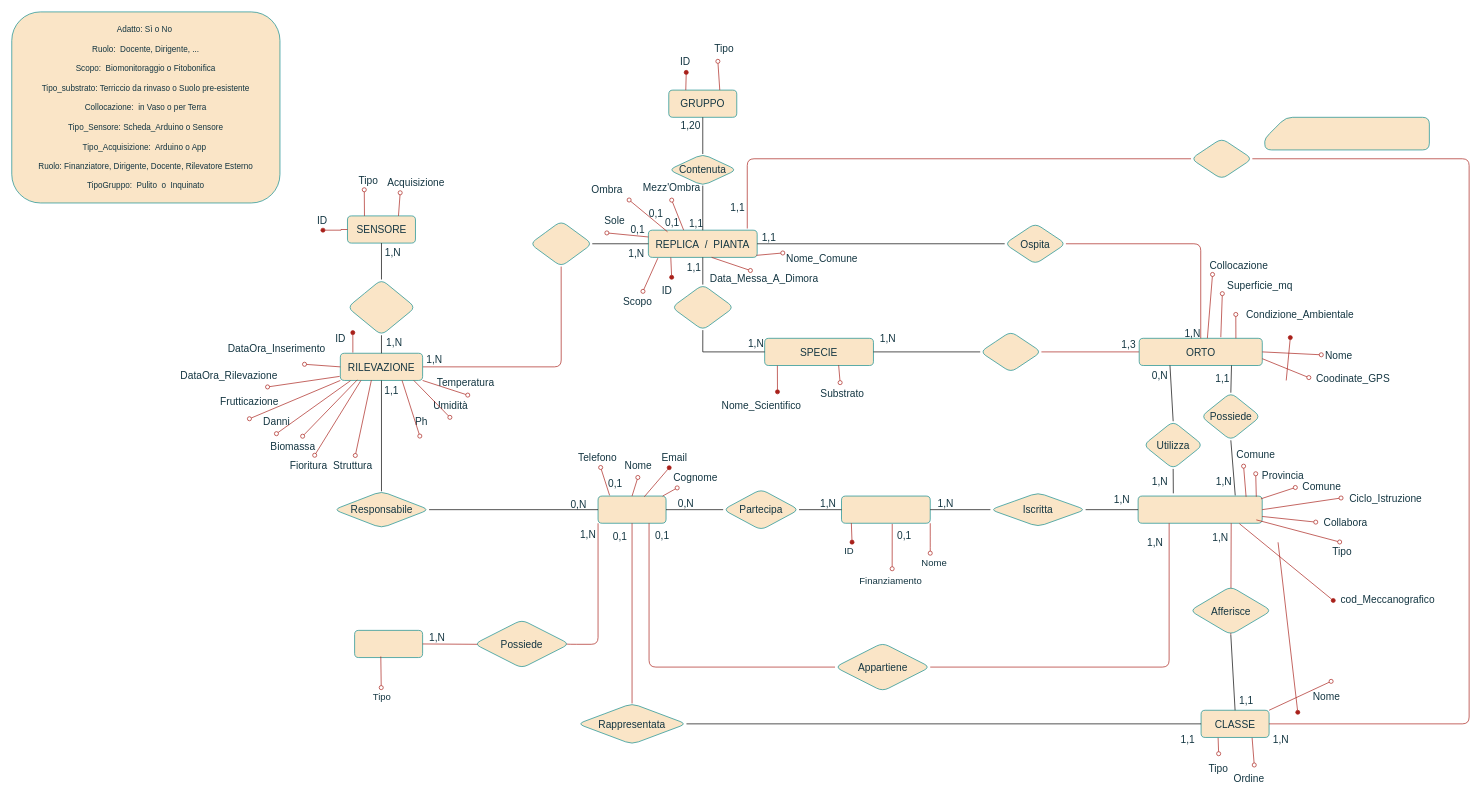
This 1482x800 diagram has some shape labels left out. The shapes that lost their labels are listed below. From the top down, each one's centre as x and y in pixels, then its label:
At pixel 1346 133: "*Classe che l'ha messa a dimora".
At pixel 1221 158: "Coltiva*".
At pixel 560 243: "Effettuata".
At pixel 381 307: "Rilevata".
At pixel 702 307: "Include".
At pixel 1010 351: "Contiene".
At pixel 631 509: "PERSONA".
At pixel 885 509: "PROGETTO".
At pixel 1199 509: "SCUOLA".
At pixel 388 644: "Ruolo".
